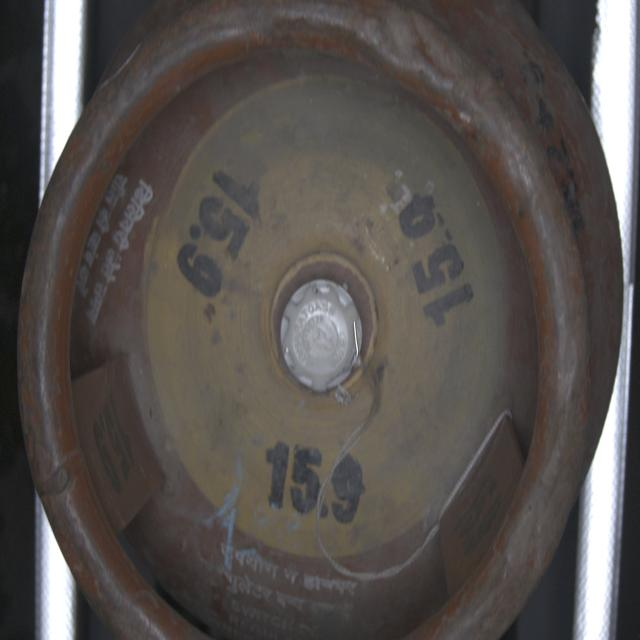Cap: (280, 275, 365, 399)
